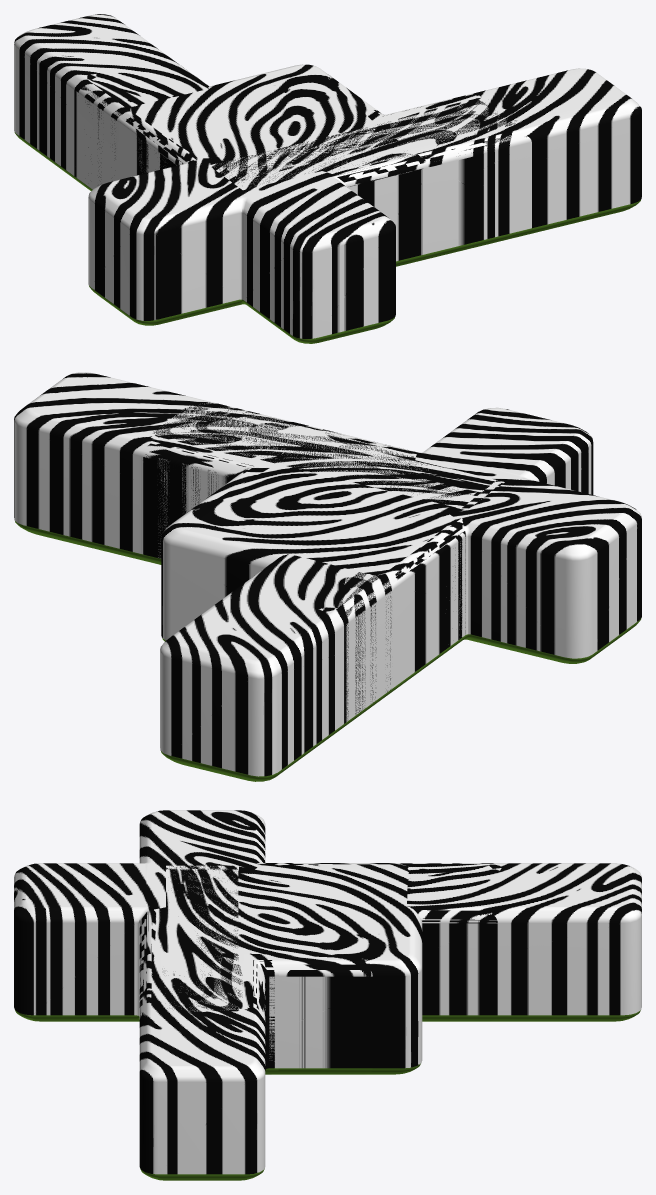
The model's file is Green.fbx.
3 renders of one model, top to bottom at view 1: azimuth 30°, elevation 25°; view 2: azimuth 150°, elevation 25°; view 3: azimuth 270°, elevation 25°, orthographic. The views are drawn at different scales.
Parts seen in each view (by area): view 1: Block_6, Block_4, Block_1, Block_9, Block_3, Block_5, Block_7, Block_8, Block_2; view 2: Block_6, Block_9, Block_4, Block_1, Block_3, Block_8, Block_7, Block_5; view 3: Block_4, Block_1, Block_6, Block_9, Block_7, Block_5, Block_3, Block_8.
Part boxes in pixels (box(x1,y1,x2,y2)): Block_6: box(88, 121, 427, 343); Block_4: box(209, 68, 641, 264); Block_1: box(122, 64, 398, 180); Block_9: box(14, 14, 208, 190); Block_3: box(209, 94, 531, 264); Block_5: box(227, 77, 528, 264); Block_7: box(74, 67, 425, 266); Block_8: box(118, 106, 382, 179); Block_2: box(344, 162, 430, 265); Block_6: box(323, 407, 641, 675); Block_9: box(160, 525, 463, 781); Block_4: box(14, 372, 504, 561); Block_1: box(161, 444, 476, 641); Block_3: box(139, 401, 502, 564); Block_8: box(240, 466, 465, 690); Block_7: box(252, 532, 465, 723); Block_5: box(139, 406, 500, 564); Block_4: box(139, 866, 265, 1180); Block_1: box(188, 864, 422, 1074); Block_6: box(14, 810, 370, 1021); Block_9: box(399, 863, 641, 1021); Block_7: box(141, 864, 501, 1021); Block_5: box(143, 866, 372, 1074); Block_3: box(139, 865, 265, 1019); Block_8: box(253, 863, 408, 1074).
Bounding box in the file's own units: 5 × 1 × 5.
2 materials, 2 textured.
